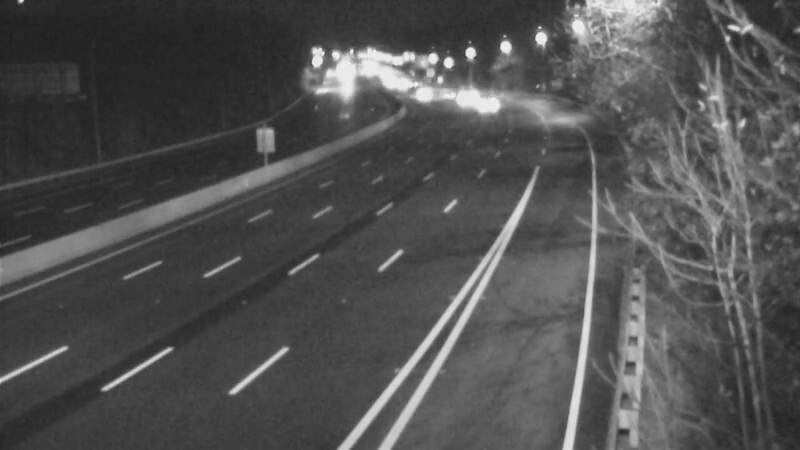vehicle: (399, 70, 449, 120), (433, 73, 483, 123), (459, 76, 509, 126)
